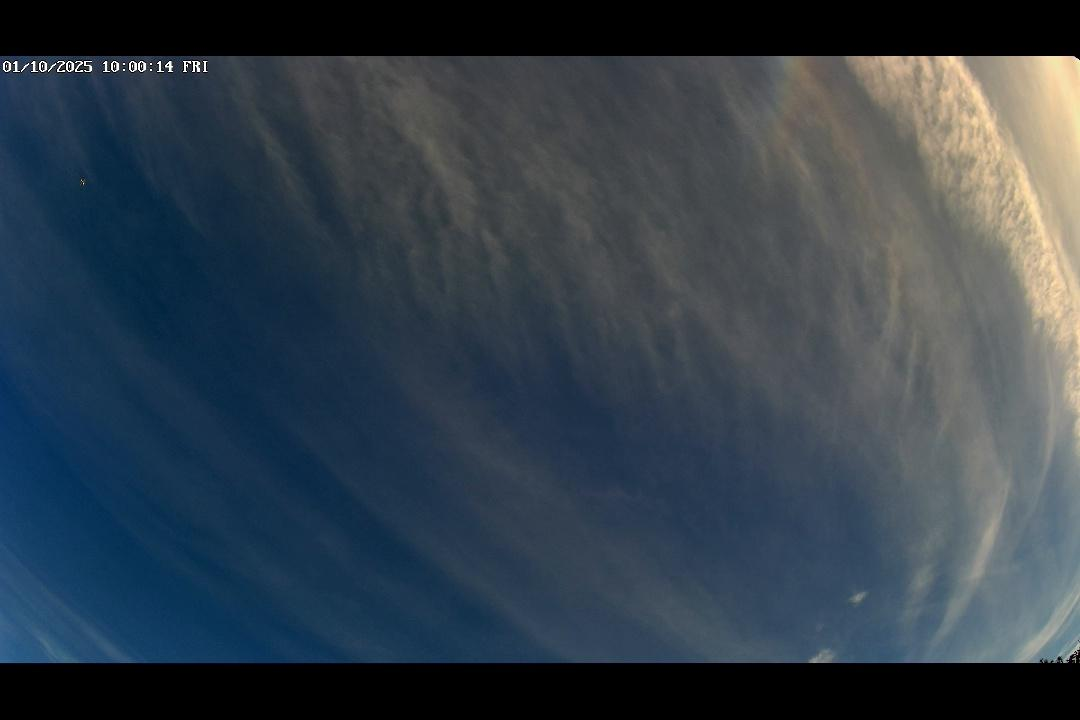Plane: (73, 174, 95, 193)
